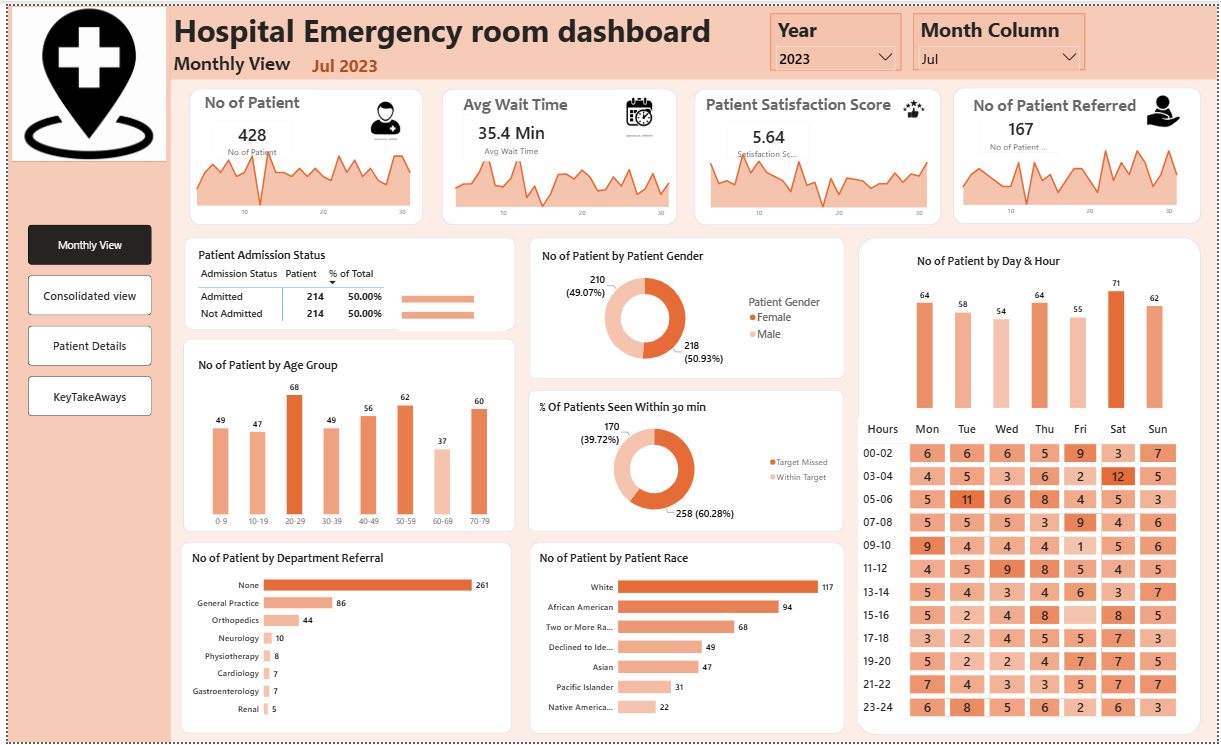

What the dashboard file says about the page in this screenshot:
{"tool":"powerbi","page":{"name":"Monthly View","canvas":[2300,1400],"ordinal":0},"visuals":[{"type":"shape","box":[0,0,310,1400],"z":0},{"type":"shape","box":[309.8,0,1990.2,140],"z":1000},{"type":"textbox","box":[310,0,1087.5,102.5],"z":2000},{"type":"shape","box":[344,156,445,260],"z":3000},{"type":"textbox","box":[310,80,433.3,83.3],"z":4000},{"type":"cardVisual","fields":{"Data":["Hospital ER_Data.No of Patient"]},"box":[368.3,200,190,108.3],"z":5000},{"type":"slicer","fields":{"Values":["Date Table.Year"]},"box":[1451.3,15.4,248.7,107.7],"z":6000},{"type":"slicer","fields":{"Values":["Date Table.Month Column"]},"box":[1722.5,15,327.5,107.5],"z":7000},{"type":"textbox","box":[369,158.5,217.5,50],"z":8000},{"type":"areaChart","fields":{"Category":["Date Table.Date.Variation.Date Hierarchy.Day"],"Y":["Hospital ER_Data.No of Patient"]},"box":[344,263.5,435,145],"z":9000},{"type":"cardVisual","fields":{"Rows":["Date Table.Month & Year"]},"box":[516.7,63.3,250,186.7],"z":10000},{"type":"shape","box":[825,157.5,447.5,260],"z":11000},{"type":"textbox","box":[861,160.5,217.5,50],"z":12000},{"type":"areaChart","fields":{"Category":["Date Table.Date.Variation.Date Hierarchy.Day"],"Y":["Avg(Hospital ER_Data.Patient Waittime)"]},"box":[836,265.5,435,145],"z":13000},{"type":"shape","box":[1305,157.5,470,260],"z":14000},{"type":"cardVisual","fields":{"Data":["Hospital ER_Data.Satisfaction Score"]},"box":[1350,205,190,106.7],"z":15000},{"type":"textbox","box":[1322.5,162.5,377.5,52.5],"z":16000},{"type":"areaChart","fields":{"Category":["Date Table.Date.Variation.Date Hierarchy.Day"],"Y":["Hospital ER_Data.Satisfaction Score"]},"box":[1322.5,268.8,441.2,143.8],"z":17000},{"type":"shape","box":[1797.5,155,472.5,260],"z":18000},{"type":"cardVisual","fields":{"Data":["Hospital ER_Data.No of Patient Referred"]},"box":[1830,190,190,106.7],"z":19000},{"type":"textbox","box":[1830,163.3,325,51.7],"z":20000},{"type":"shape","box":[335.9,441,630,177],"z":21000},{"type":"areaChart","fields":{"Category":["Date Table.Date.Variation.Date Hierarchy.Day"],"Y":["Hospital ER_Data.No of Patient Referred"]},"box":[1802,262,436,146],"z":22000},{"type":"cardVisual","fields":{"Data":["Hospital ER_Data.Avg Wait Time"]},"box":[850,186.7,215,125],"z":23000},{"type":"pivotTable","title":"Patient Admission Status","fields":{"Rows":["Hospital ER_Data.Admission Status"],"Values":["Hospital ER_Data.No of Patient1","Hospital ER_Data.No of Patient"]},"box":[356.4,459,589.7,159],"z":24000},{"type":"barChart","fields":{"Category":["Hospital ER_Data.Admission Status"],"Y":["Hospital ER_Data.No of Patient"]},"box":[743.6,523.1,202.6,94.9],"z":25000},{"type":"shape","box":[332.9,632.5,632.5,368.5],"z":26000},{"type":"clusteredColumnChart","fields":{"Category":["Hospital ER_Data.Age Group"],"Y":["Hospital ER_Data.No of Patient"]},"box":[356.7,668.1,589.7,332.9],"z":27000},{"type":"shape","box":[328.1,1020,630.1,363.8],"z":28000},{"type":"clusteredBarChart","fields":{"Category":["Hospital ER_Data.Department Referral"],"Y":["Hospital ER_Data.No of Patient"]},"box":[344.8,1036.7,601.6,330.5],"z":29000},{"type":"shape","box":[991.5,439.9,600,270],"z":30000},{"type":"donutChart","fields":{"Y":["Hospital ER_Data.No of Patient"],"Category":["Hospital ER_Data.Patient Gender"]},"box":[1010,462,564,238],"z":31000},{"type":"shape","box":[990,730,600,270],"z":32000},{"type":"shape","box":[992.5,1020,600,365],"z":33000},{"type":"donutChart","title":"% Of Patients Seen Within 30 min","fields":{"Category":["Hospital ER_Data.Waittime status"],"Y":["Hospital ER_Data.No of Patient"]},"box":[1006,748,568,236],"z":34000},{"type":"clusteredBarChart","fields":{"Y":["Hospital ER_Data.No of Patient"],"Category":["Hospital ER_Data.Patient Race"]},"box":[1005,1037.5,570,330],"z":35000},{"type":"shape","box":[1617.5,440,652.5,947.5],"z":36000},{"type":"pivotTable","fields":{"Rows":["Hospital ER_Data.Waitting Interval"],"Columns":["Date Table.Day Name"],"Values":["Hospital ER_Data.No of Patient"]},"box":[1616.7,783.3,613.3,583.3],"z":37000},{"type":"columnChart","title":"No of Patient by Day & Hour","fields":{"Category":["Date Table.Day Name"],"Y":["Hospital ER_Data.No of Patient"]},"box":[1723.3,470,480,300],"z":38000},{"type":"image","box":[667.5,175,100,80],"z":39000},{"type":"image","box":[1150,160,100,90],"z":40000},{"type":"image","box":[1680,160,83.8,72.5],"z":41000},{"type":"image","box":[2157.5,162.5,82.5,70],"z":42000},{"type":"image","box":[8,0,294,296],"z":43000},{"type":"pageNavigator","box":[37.5,415,235,367.5],"z":44000}]}

Visuals, with their boxes in screenshot pixels (x1, y1, x2, y2), scaled from the page's 2300x1400 canvas onto the 1221x745 screenshot:
shape: pyautogui.locateOnScreen(0, 0, 165, 744)
shape: pyautogui.locateOnScreen(164, 0, 1220, 74)
textbox: pyautogui.locateOnScreen(165, 0, 742, 55)
shape: pyautogui.locateOnScreen(183, 83, 419, 221)
textbox: pyautogui.locateOnScreen(165, 43, 395, 87)
cardVisual - Hospital ER_Data.No of Patient: pyautogui.locateOnScreen(196, 106, 296, 164)
slicer - Date Table.Year: pyautogui.locateOnScreen(770, 8, 902, 66)
slicer - Date Table.Month Column: pyautogui.locateOnScreen(914, 8, 1088, 65)
textbox: pyautogui.locateOnScreen(196, 84, 311, 111)
areaChart - Date Table.Date.Variation.Date Hierarchy.Day x Hospital ER_Data.No of Patient: pyautogui.locateOnScreen(183, 140, 414, 217)
cardVisual - Date Table.Month & Year: pyautogui.locateOnScreen(274, 34, 407, 133)
shape: pyautogui.locateOnScreen(438, 84, 676, 222)
textbox: pyautogui.locateOnScreen(457, 85, 573, 112)
areaChart - Date Table.Date.Variation.Date Hierarchy.Day x Avg(Hospital ER_Data.Patient Waittime): pyautogui.locateOnScreen(444, 141, 675, 218)
shape: pyautogui.locateOnScreen(693, 84, 942, 222)
cardVisual - Hospital ER_Data.Satisfaction Score: pyautogui.locateOnScreen(717, 109, 818, 166)
textbox: pyautogui.locateOnScreen(702, 86, 902, 114)
areaChart - Date Table.Date.Variation.Date Hierarchy.Day x Hospital ER_Data.Satisfaction Score: pyautogui.locateOnScreen(702, 143, 936, 220)
shape: pyautogui.locateOnScreen(954, 82, 1205, 221)
cardVisual - Hospital ER_Data.No of Patient Referred: pyautogui.locateOnScreen(971, 101, 1072, 158)
textbox: pyautogui.locateOnScreen(971, 87, 1144, 114)
shape: pyautogui.locateOnScreen(178, 235, 513, 329)
areaChart - Date Table.Date.Variation.Date Hierarchy.Day x Hospital ER_Data.No of Patient Referred: pyautogui.locateOnScreen(957, 139, 1188, 217)
cardVisual - Hospital ER_Data.Avg Wait Time: pyautogui.locateOnScreen(451, 99, 565, 166)
"Patient Admission Status" pivotTable: pyautogui.locateOnScreen(189, 244, 502, 329)
barChart - Hospital ER_Data.Admission Status x Hospital ER_Data.No of Patient: pyautogui.locateOnScreen(395, 278, 502, 329)
shape: pyautogui.locateOnScreen(177, 337, 513, 533)
clusteredColumnChart - Hospital ER_Data.Age Group x Hospital ER_Data.No of Patient: pyautogui.locateOnScreen(189, 356, 502, 533)
shape: pyautogui.locateOnScreen(174, 543, 509, 736)
clusteredBarChart - Hospital ER_Data.Department Referral x Hospital ER_Data.No of Patient: pyautogui.locateOnScreen(183, 552, 502, 728)
shape: pyautogui.locateOnScreen(526, 234, 845, 378)
donutChart - Hospital ER_Data.No of Patient x Hospital ER_Data.Patient Gender: pyautogui.locateOnScreen(536, 246, 836, 372)
shape: pyautogui.locateOnScreen(526, 388, 844, 532)
shape: pyautogui.locateOnScreen(527, 543, 845, 737)
"% Of Patients Seen Within 30 min" donutChart: pyautogui.locateOnScreen(534, 398, 836, 524)
clusteredBarChart - Hospital ER_Data.No of Patient x Hospital ER_Data.Patient Race: pyautogui.locateOnScreen(534, 552, 836, 728)
shape: pyautogui.locateOnScreen(859, 234, 1205, 738)
pivotTable - Hospital ER_Data.Waitting Interval x Date Table.Day Name: pyautogui.locateOnScreen(858, 417, 1184, 727)
"No of Patient by Day & Hour" columnChart: pyautogui.locateOnScreen(915, 250, 1170, 410)
image: pyautogui.locateOnScreen(354, 93, 407, 136)
image: pyautogui.locateOnScreen(610, 85, 664, 133)
image: pyautogui.locateOnScreen(892, 85, 936, 124)
image: pyautogui.locateOnScreen(1145, 86, 1189, 124)
image: pyautogui.locateOnScreen(4, 0, 160, 158)
pageNavigator: pyautogui.locateOnScreen(20, 221, 145, 416)
